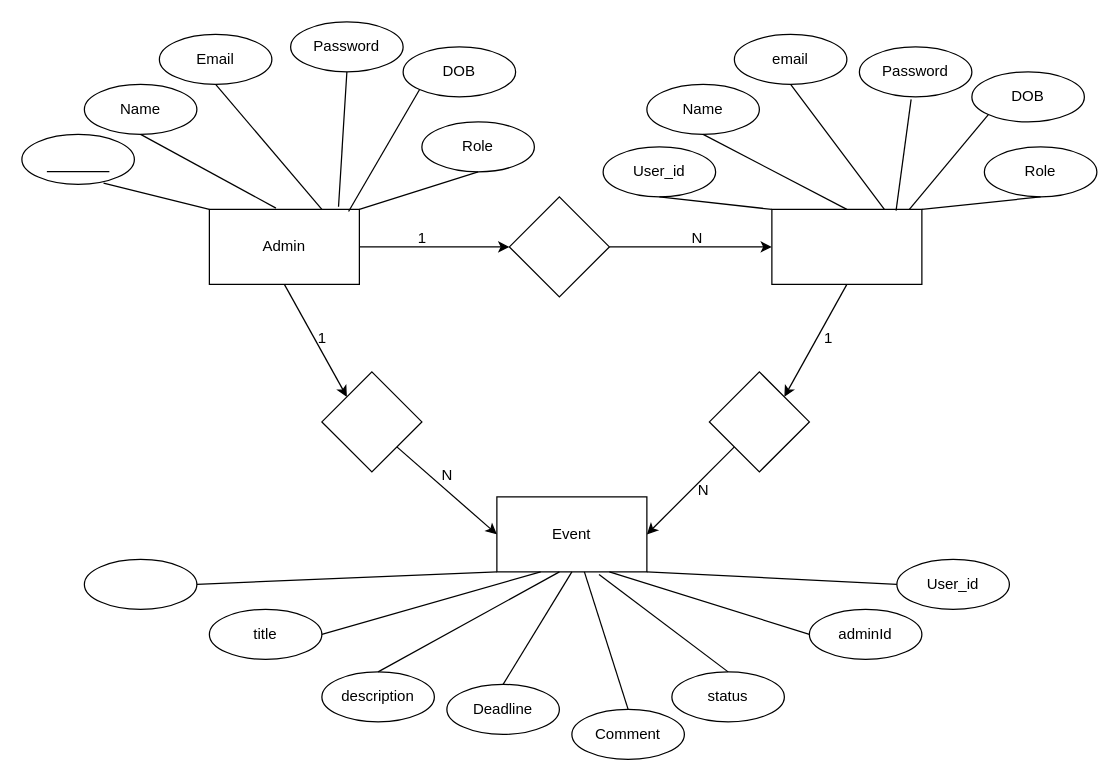
Image size: 1119x781. Some labels were removed from this diagram. Each missing label, with the centre of its shape:
Add: pixel 371 421
Admin_id: pixel 77 158
Assigns: pixel 558 246
Event_id: pixel 140 583
Has: pixel 758 421
User: pixel 846 246
